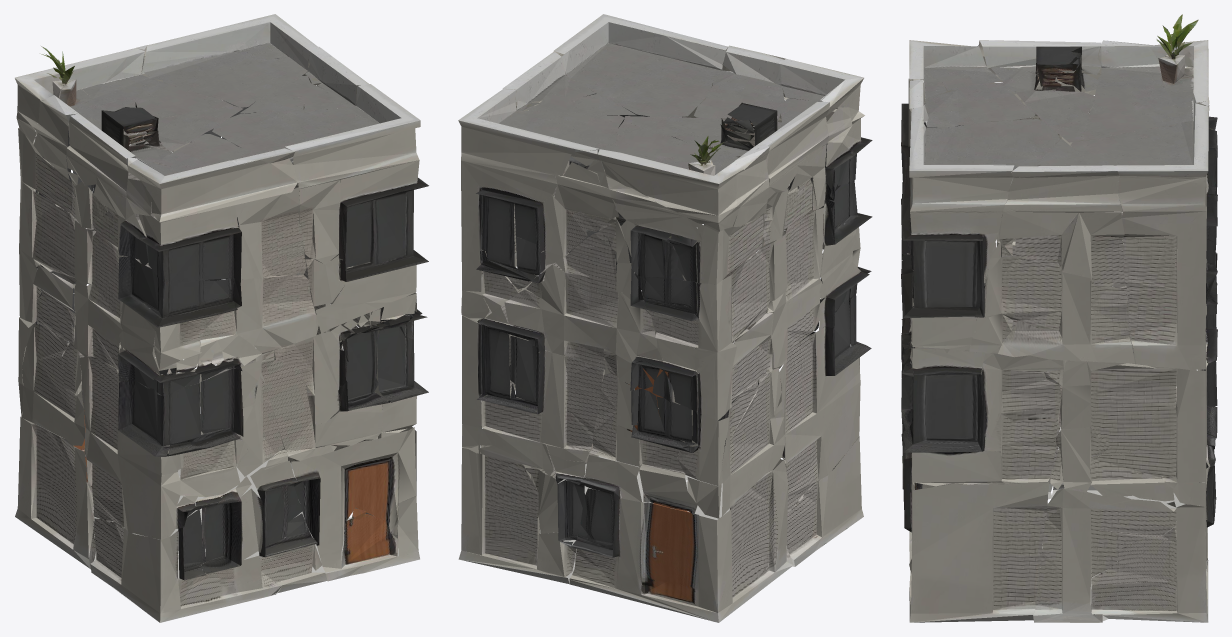
The model's file is JHB_HeroBuilding05_LOD2.fbx.
The picture shows the model from 3 angles, left to right: view 1: azimuth 30°, elevation 25°; view 2: azimuth 150°, elevation 25°; view 3: azimuth 270°, elevation 25°; orthographic projection. The views are drawn at different scales.
Parts seen in each view (by area): view 1: JHB_HeroBuilding05_LOD2; view 2: JHB_HeroBuilding05_LOD2; view 3: JHB_HeroBuilding05_LOD2.
Boxes of the visible parts, x1,y1,x2,y2 form: JHB_HeroBuilding05_LOD2: (15, 14, 428, 622); JHB_HeroBuilding05_LOD2: (458, 14, 872, 622); JHB_HeroBuilding05_LOD2: (901, 14, 1217, 622).
Size of the model in its own units: 10.95 by 18.07 by 10.69.
